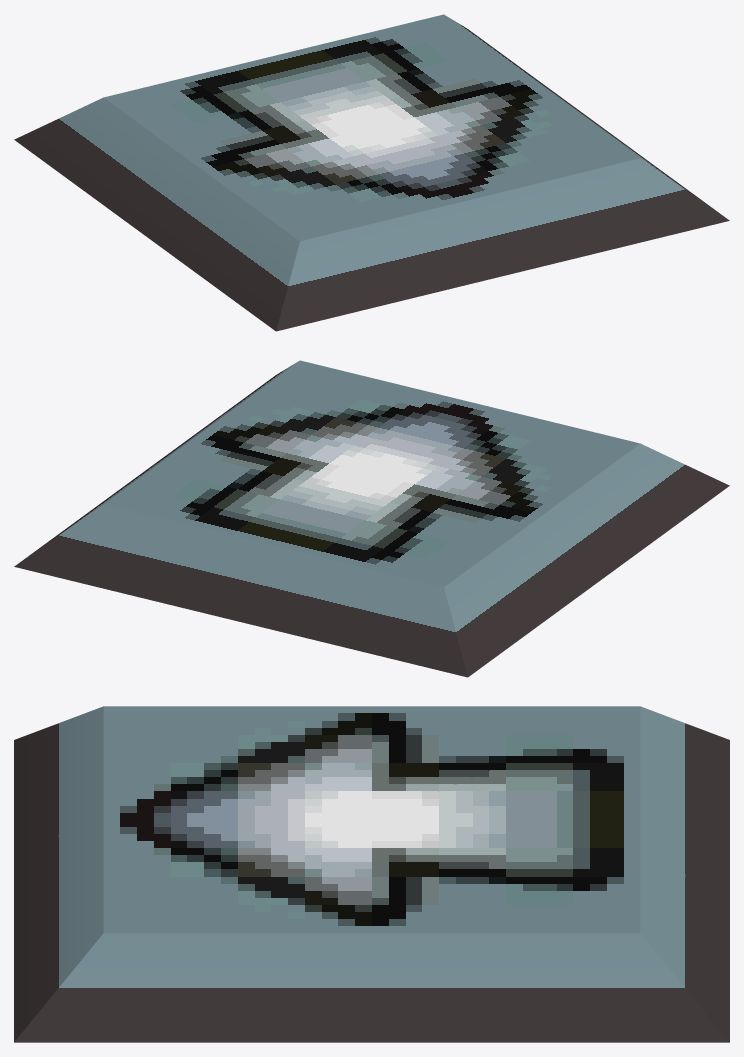
File: cv_lift_btn.glb
3 renders of one model, top to bottom at view 1: azimuth 30°, elevation 25°; view 2: azimuth 150°, elevation 25°; view 3: azimuth 270°, elevation 25°, orthographic. The views are drawn at different scales.
Parts seen in each view (by area): view 1: cv_lift_btn; view 2: cv_lift_btn; view 3: cv_lift_btn.
Boxes of the visible parts, x1,y1,x2,y2 form: cv_lift_btn: (14, 14, 729, 331); cv_lift_btn: (14, 360, 729, 677); cv_lift_btn: (14, 706, 729, 1042).
Bounding box in the file's own units: 12.5 × 1.38 × 12.5.
2 materials, 2 textured.
